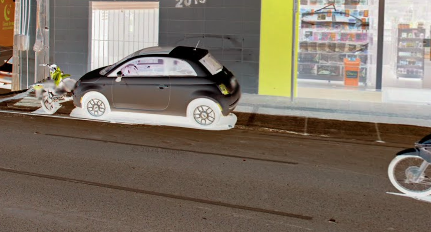car: (72, 35, 242, 134)
